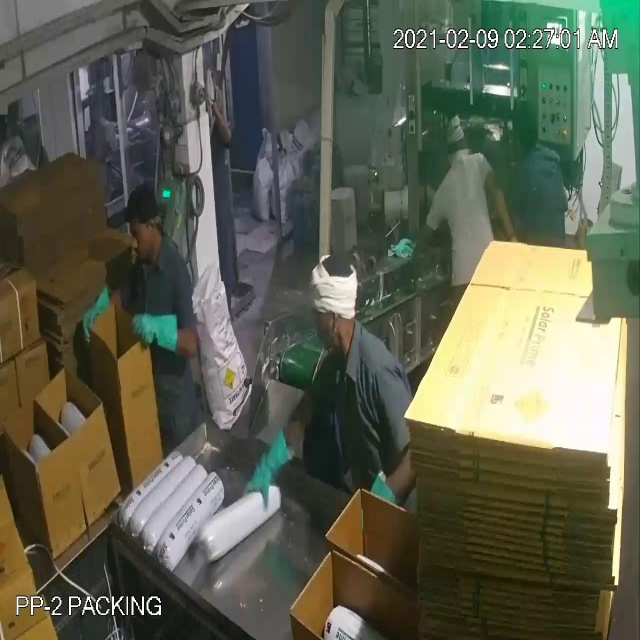Guantes: (239, 422, 297, 514), (127, 304, 184, 363), (79, 284, 114, 349)
